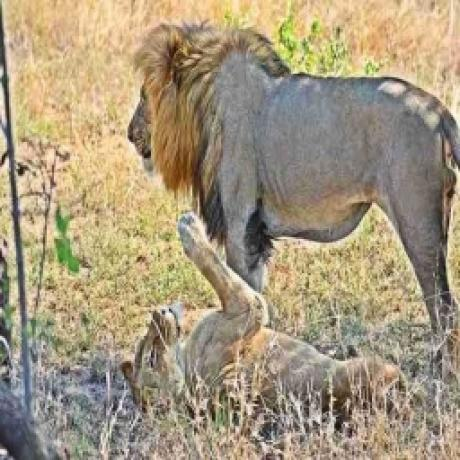Lion: (124, 16, 460, 322), (121, 210, 406, 408)
